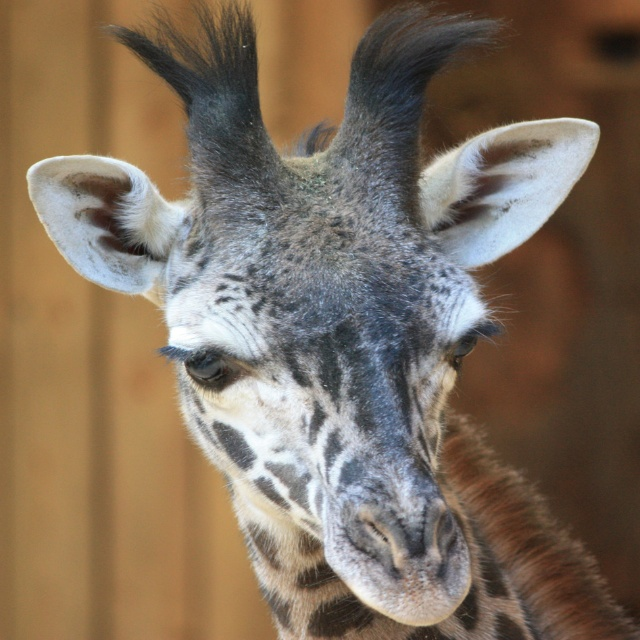Giraffe: (17, 0, 640, 640)
